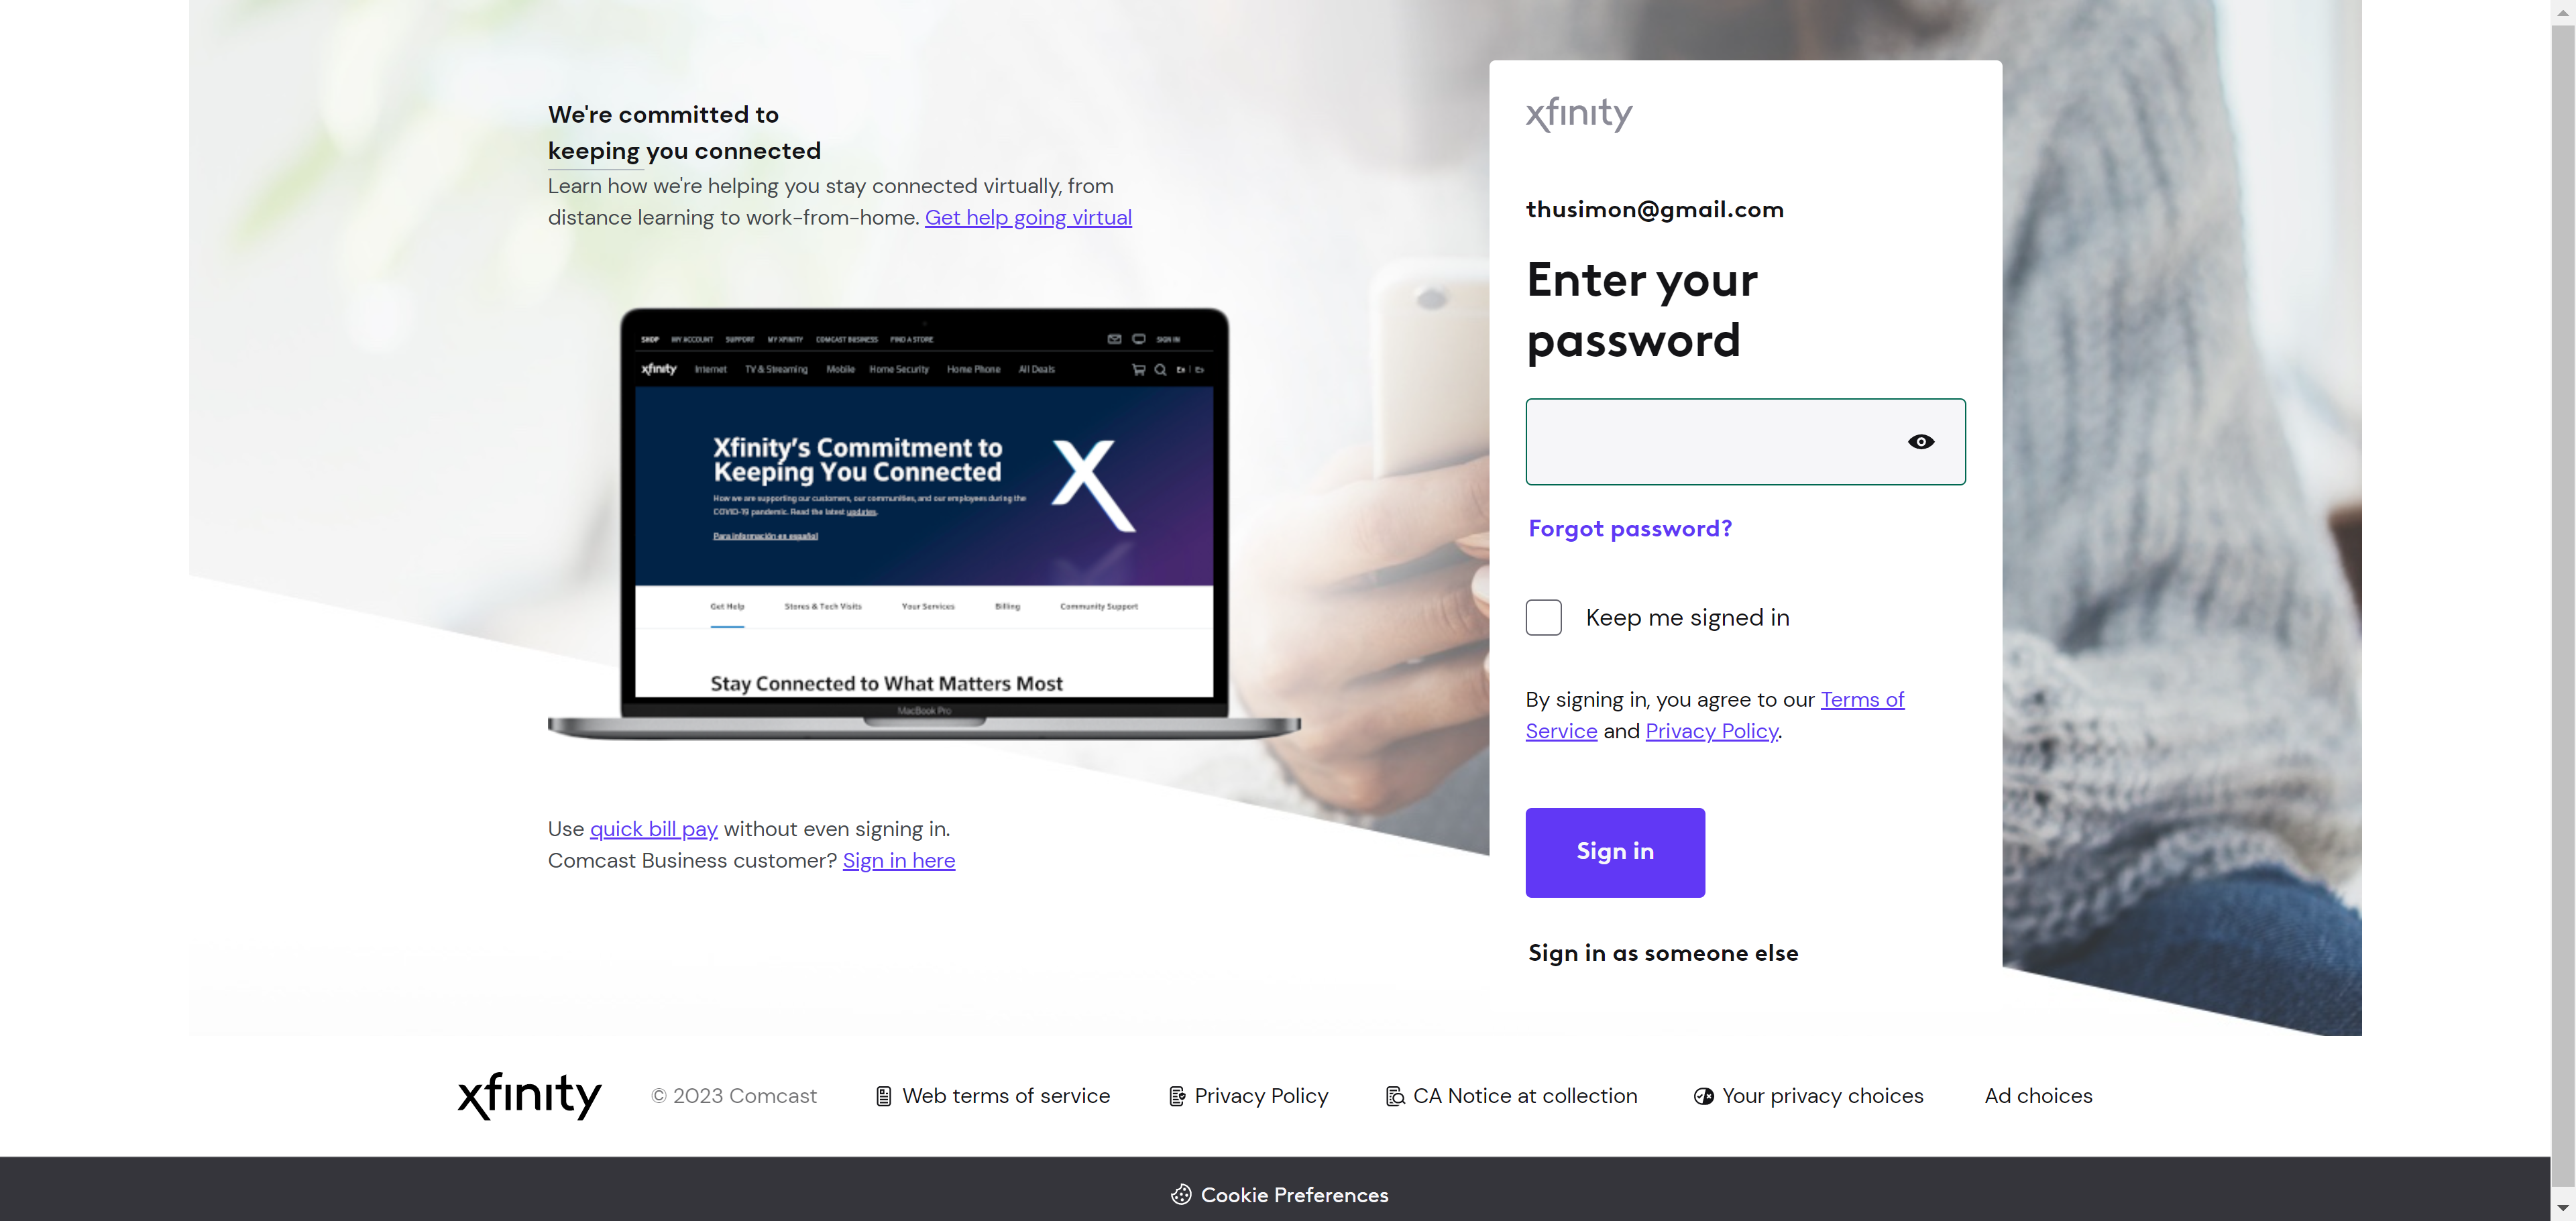login_button: (1526, 809, 1705, 897)
login_form: (1516, 389, 1976, 905)
